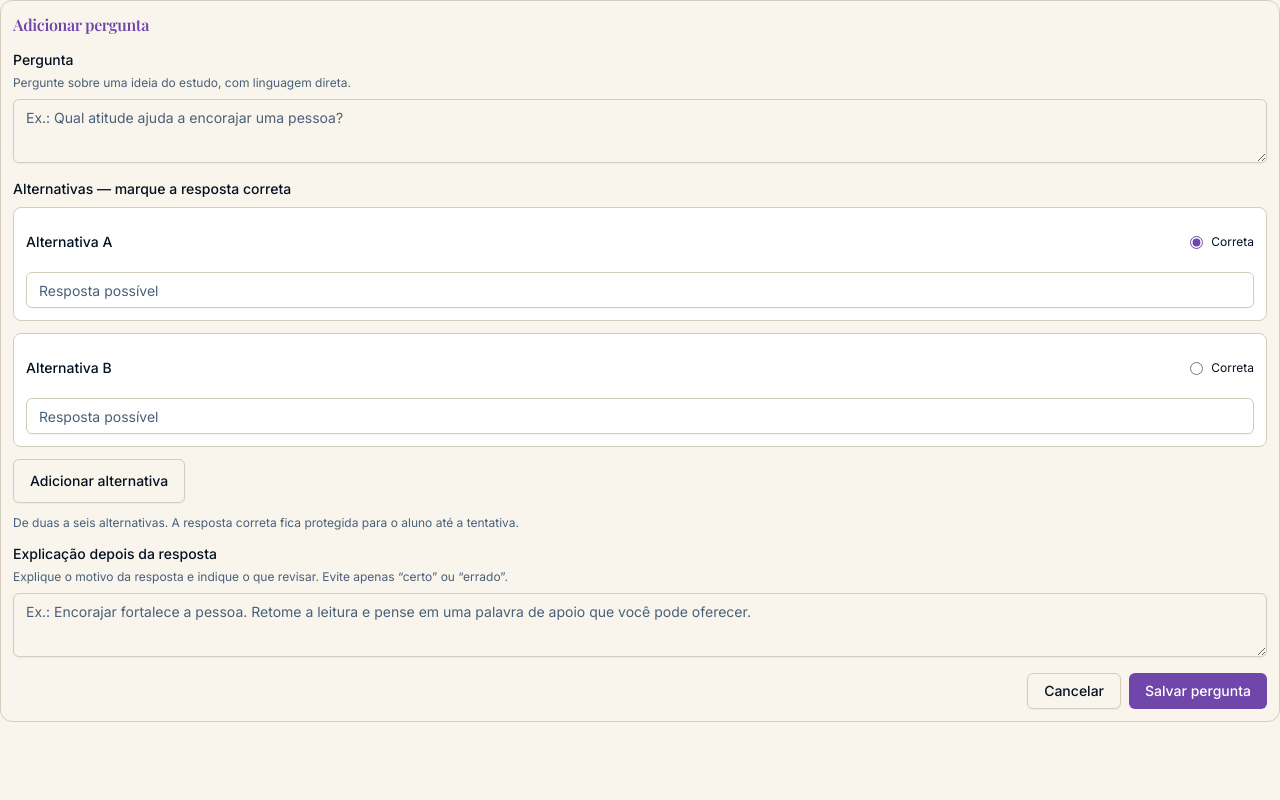
formulário de pergunta e criação idempotente — API/armazenamento em memória › not_found preserva tentativa e não dispara criação alternativa
Type "Qual atitude encoraja?" into the text box labelled "Pergunta" at (640, 131), box [13, 99, 1267, 163]
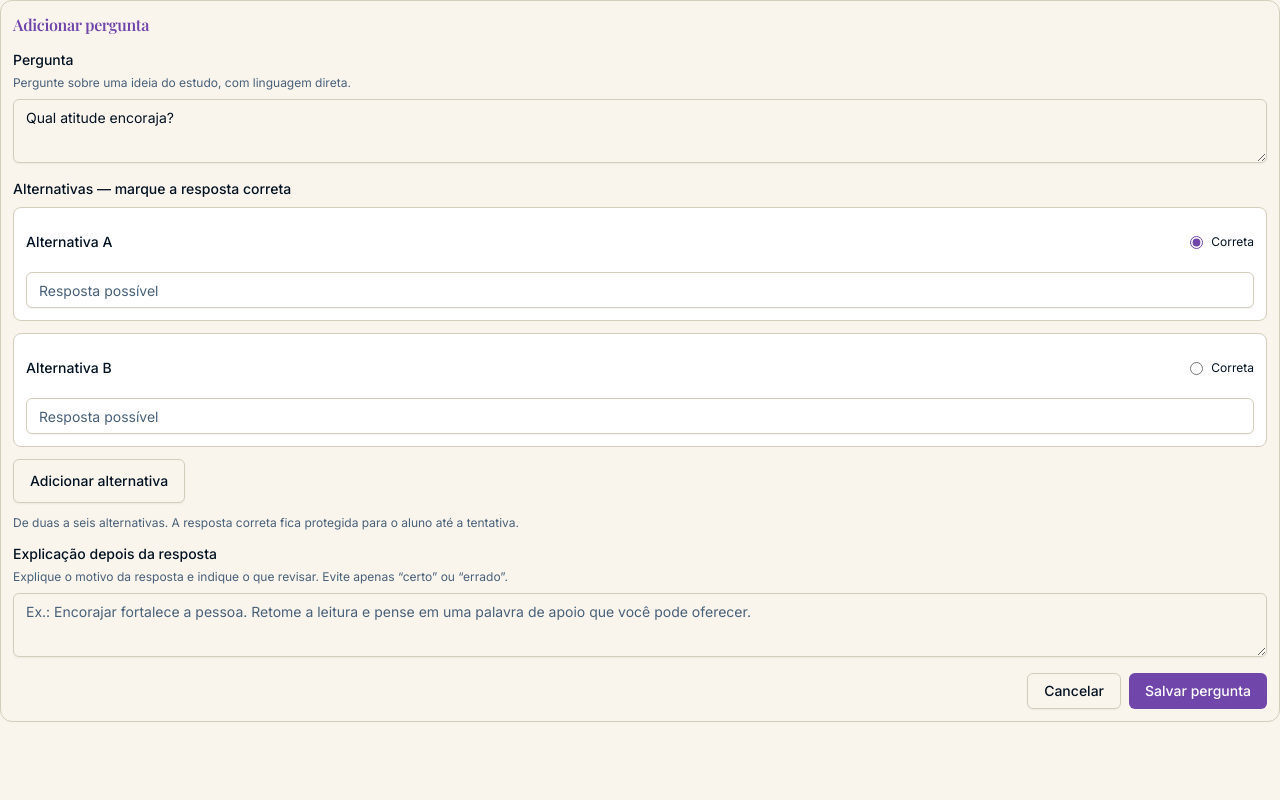
Type "Ouvir com atenção" into the field labelled "Alternativa A" at (640, 290), box [26, 272, 1254, 308]
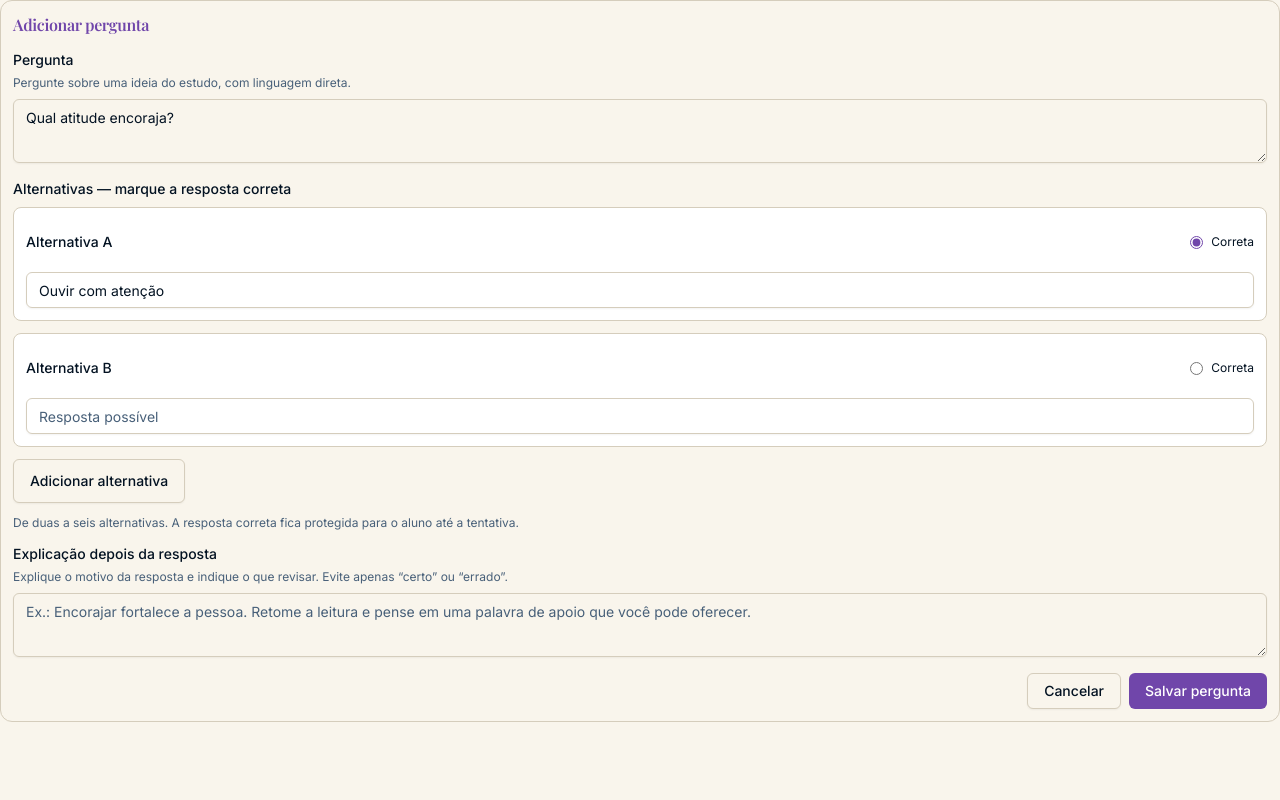
Type "Ignorar" into the field labelled "Alternativa B" at (640, 416), box [26, 398, 1254, 434]
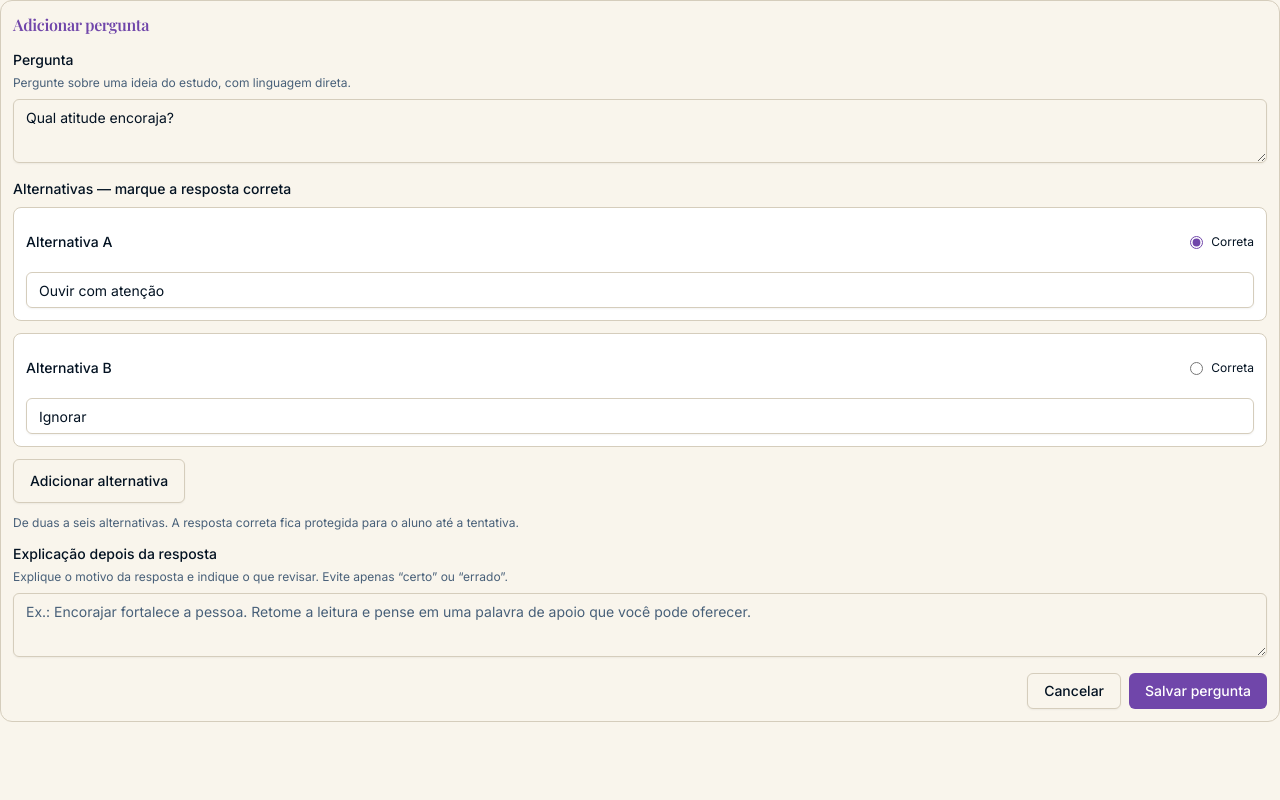
Replace the text in the text box labelled "Explicação depois da resposta" with "Ouvir demonstra cuidado. Retome o exemplo da leitura." at (640, 625), box [13, 593, 1267, 657]
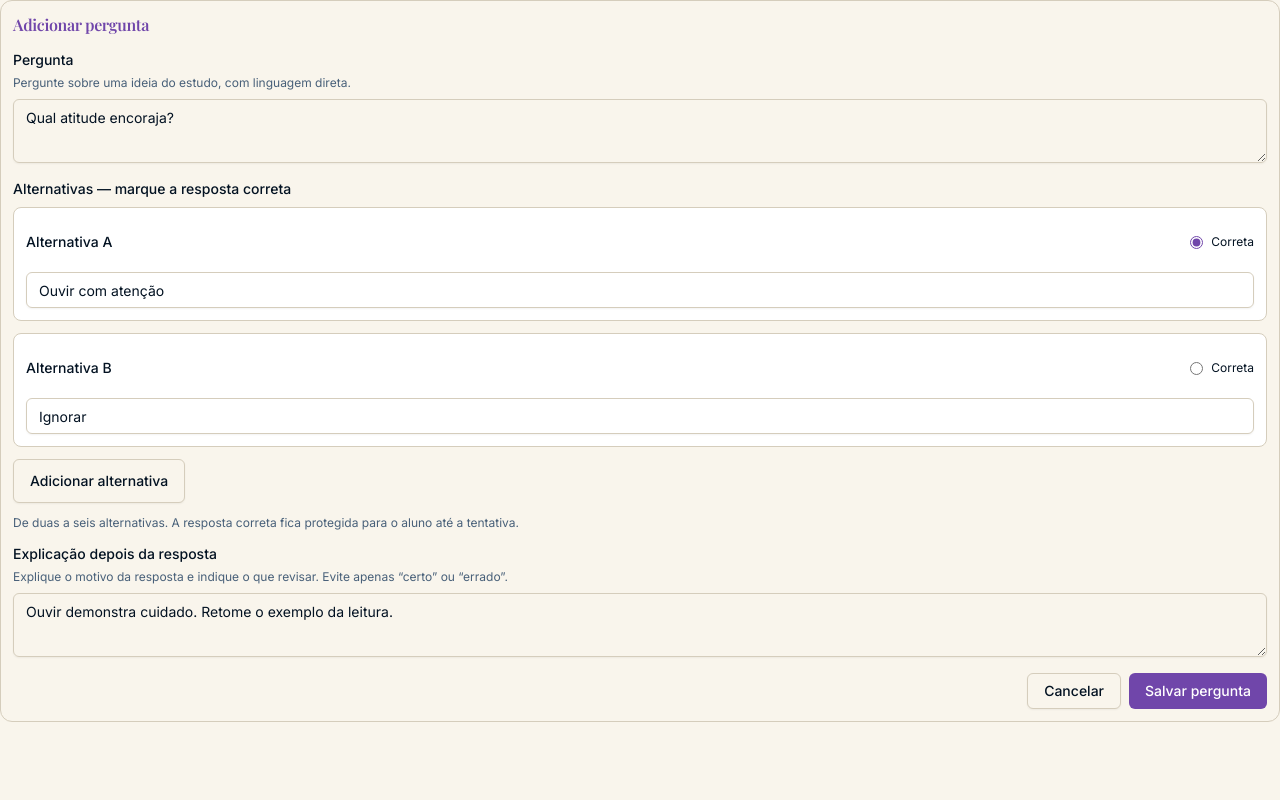
Click the button "Salvar pergunta" at (1198, 691), box [1129, 673, 1267, 709]
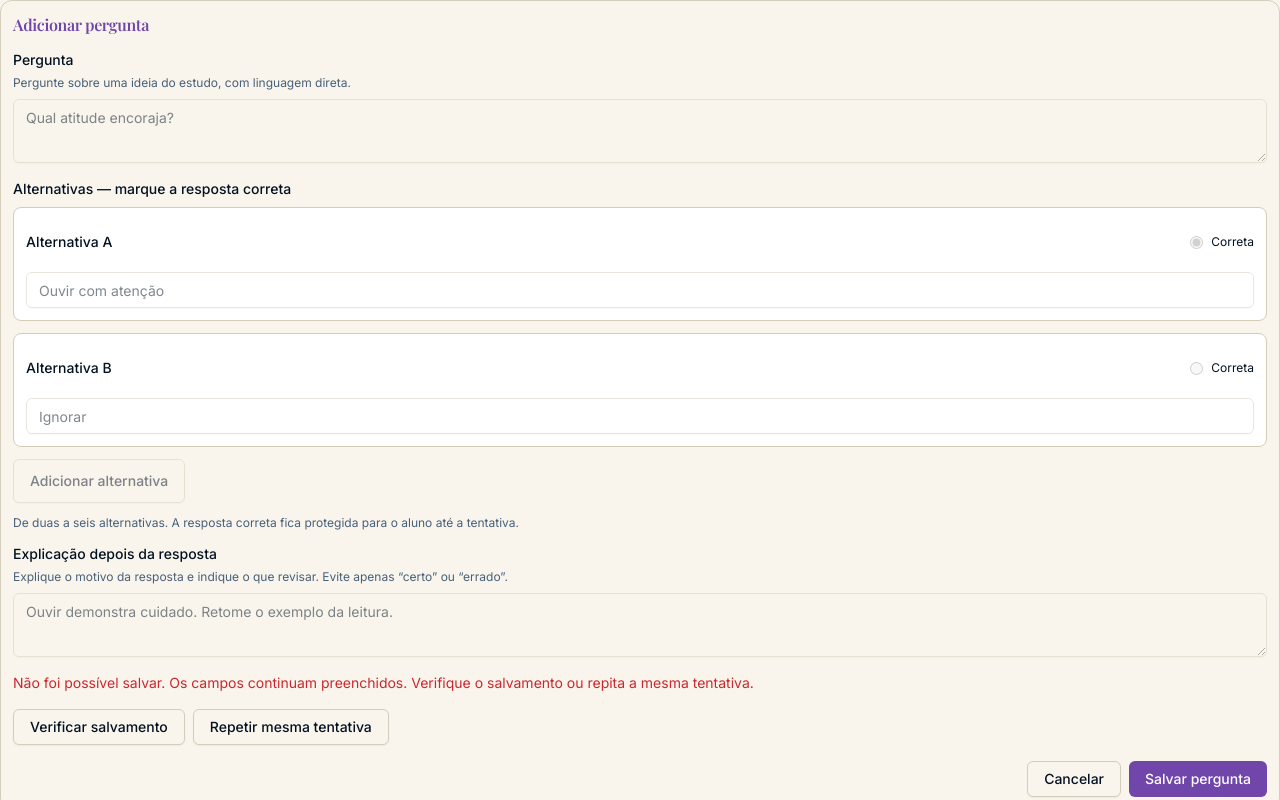
Click the button "Verificar salvamento" at (99, 727), box [13, 709, 185, 745]
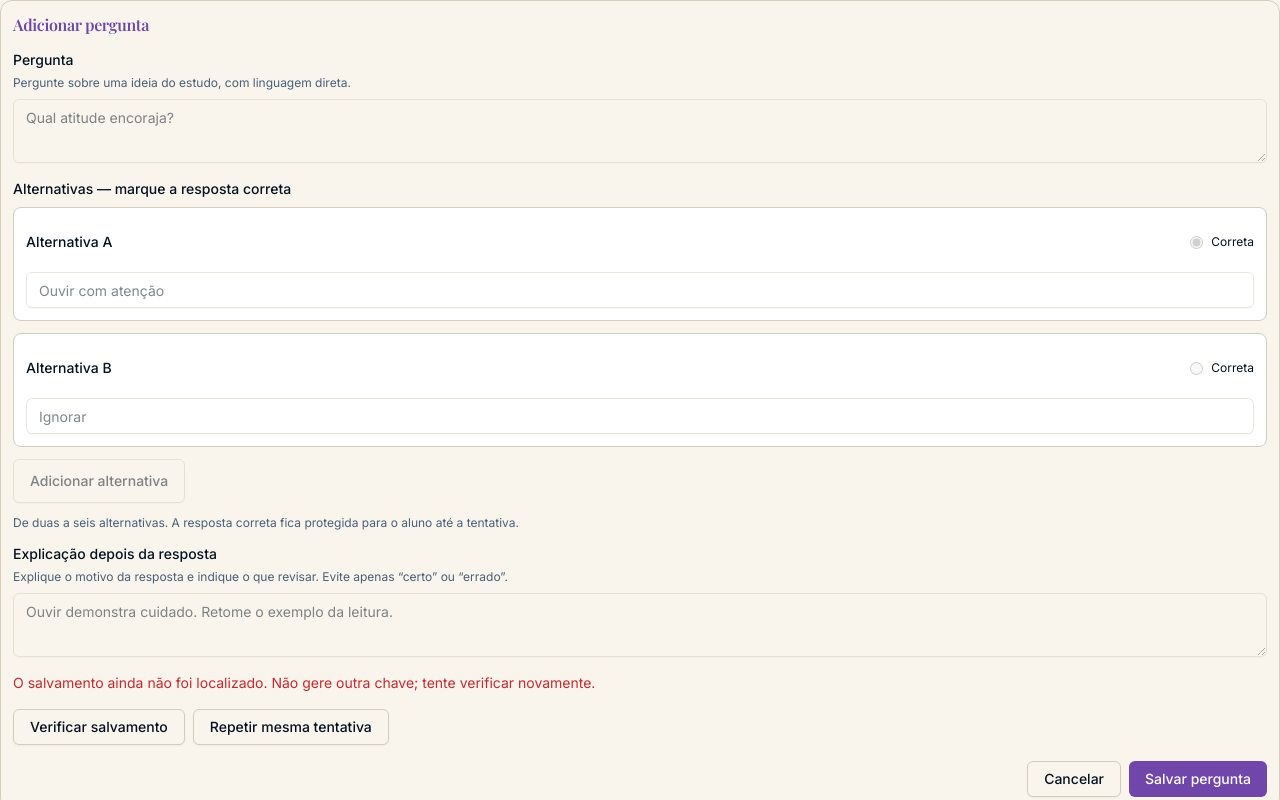
Expected: the message shows "não foi localizado", [13, 674, 595, 691]
